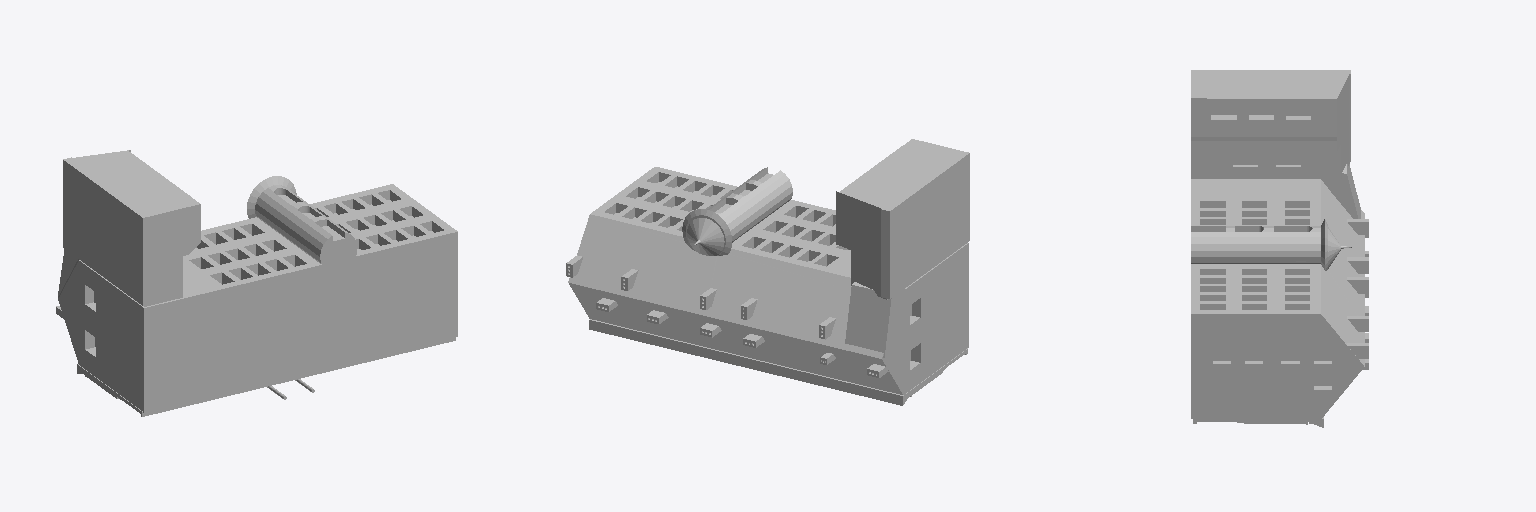
Rendered from Stowarzyszenie Kupców.obj.
3 views of the same model, side by side, from view 1: azimuth 30°, elevation 25°; view 2: azimuth 150°, elevation 25°; view 3: azimuth 270°, elevation 25° (orthographic).
Parts seen in each view (by area): view 1: Stowarzyszenie_Kupców_obj_0; view 2: Stowarzyszenie_Kupców_obj_0; view 3: Stowarzyszenie_Kupców_obj_0.
Part boxes in pixels (bbox=[...]): Stowarzyszenie_Kupców_obj_0: bbox=[56, 150, 457, 416]; Stowarzyszenie_Kupców_obj_0: bbox=[566, 139, 969, 405]; Stowarzyszenie_Kupców_obj_0: bbox=[1191, 70, 1368, 427].
Bounding box in the file's own units: 0.0364 × 0.024 × 0.0178.